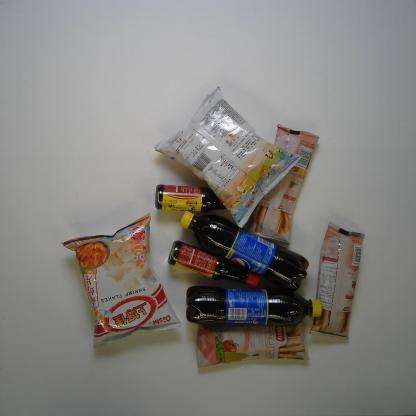Dessert: (246, 123, 322, 246), (308, 220, 366, 342), (194, 322, 311, 370)
Drink: (179, 209, 311, 293), (185, 284, 323, 328)
Puffed Food: (153, 84, 303, 230), (61, 212, 183, 350)
Seasoner: (167, 239, 260, 290), (154, 184, 227, 214)
